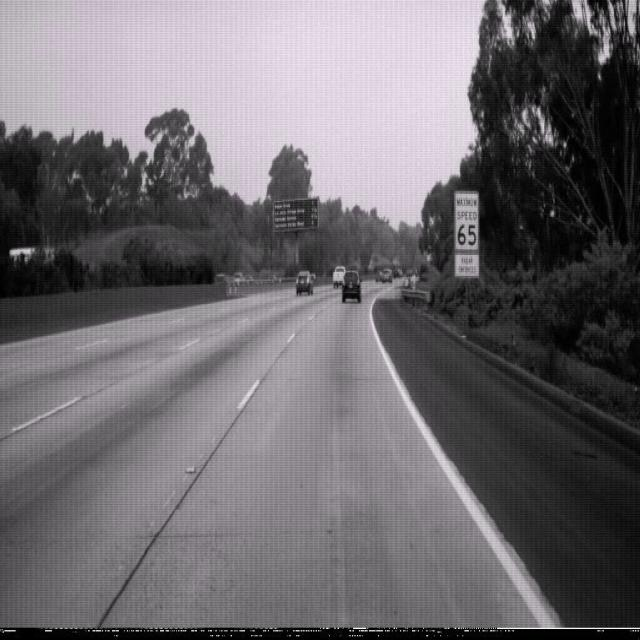speedLimit65: (454, 190, 478, 251)
